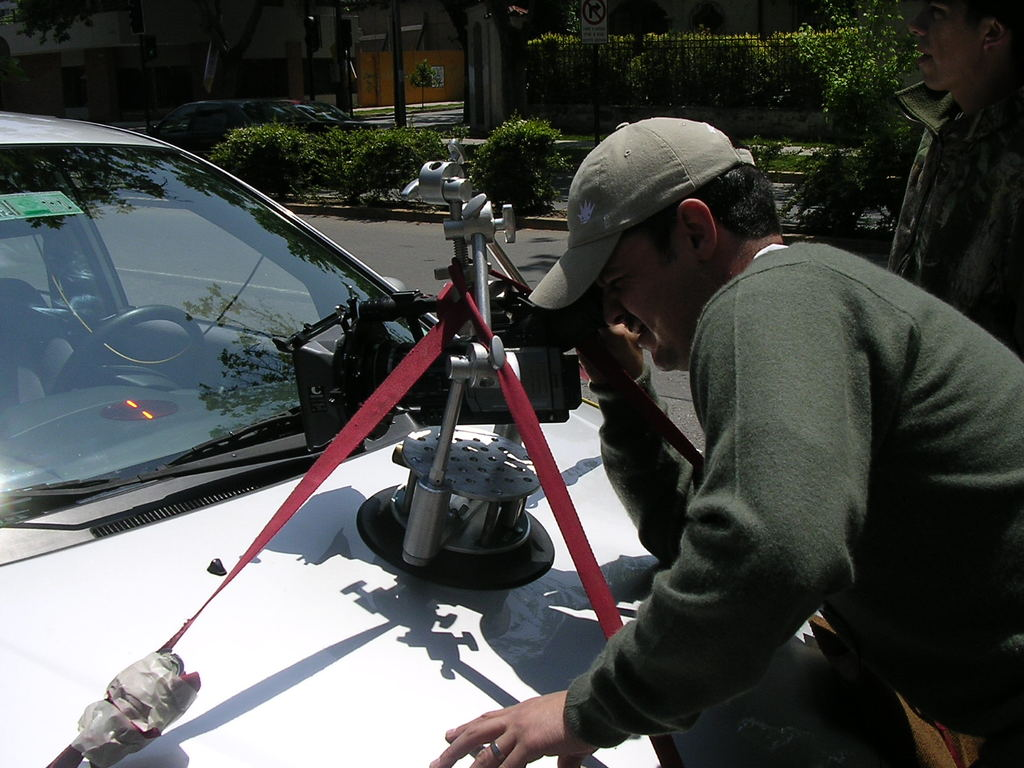Car: (0, 111, 821, 767)
